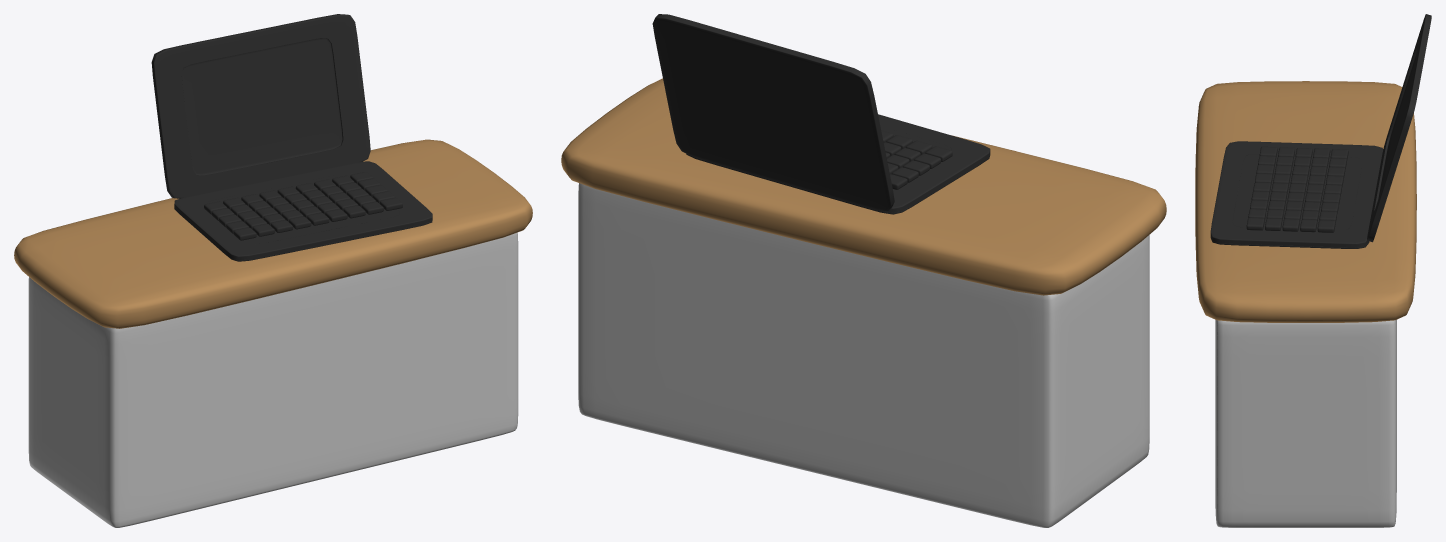
The model's file is desk.glb.
3 views of the same model, side by side, from view 1: azimuth 30°, elevation 25°; view 2: azimuth 150°, elevation 25°; view 3: azimuth 270°, elevation 25° (orthographic). The views are drawn at different scales.
Visible parts, largest first — view 1: Plane.023; view 2: Plane.023; view 3: Plane.023.
Boxes of the visible parts, x1,y1,x2,y2 form: Plane.023: (14, 14, 532, 527); Plane.023: (561, 14, 1166, 527); Plane.023: (1195, 14, 1431, 527).
Size of the model in its own units: 1.77 by 1.4 by 0.7779.
